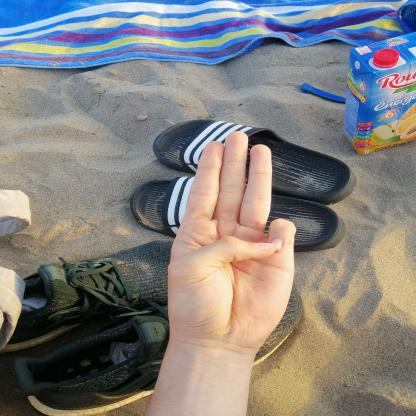THA: (149, 120, 310, 360)
